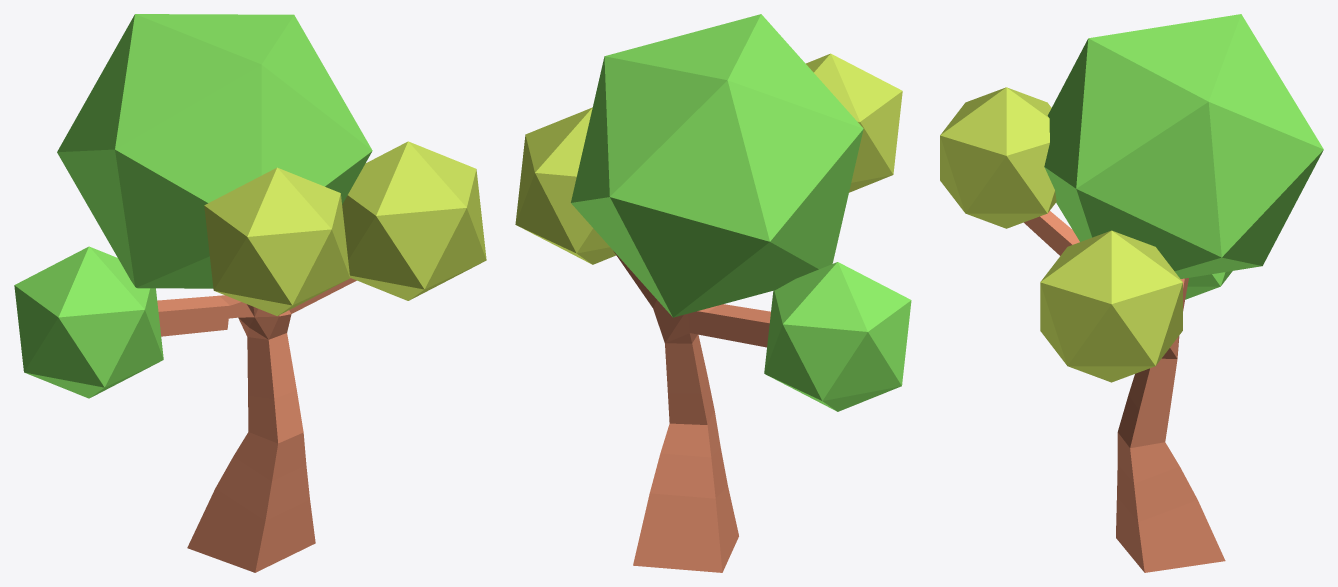
Rendered from Tree 11.fbx.
3 renders of one model, left to right at view 1: azimuth 30°, elevation 25°; view 2: azimuth 150°, elevation 25°; view 3: azimuth 270°, elevation 25°, orthographic. The views are drawn at different scales.
Parts seen in each view (by area): view 1: Tree 11; view 2: Tree 11; view 3: Tree 11.
Boxes of the visible parts, x1,y1,x2,y2 form: Tree 11: [14, 14, 486, 572]; Tree 11: [515, 14, 911, 572]; Tree 11: [940, 14, 1323, 572].
Bounding box in the file's own units: 335 × 402 × 281.
